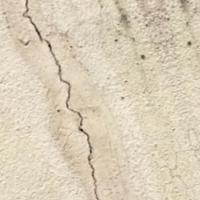crack: (18, 0, 105, 199)
